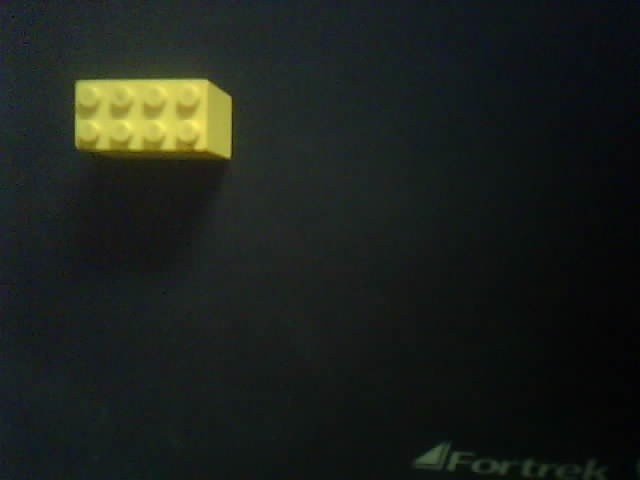lego: (70, 73, 235, 165)
